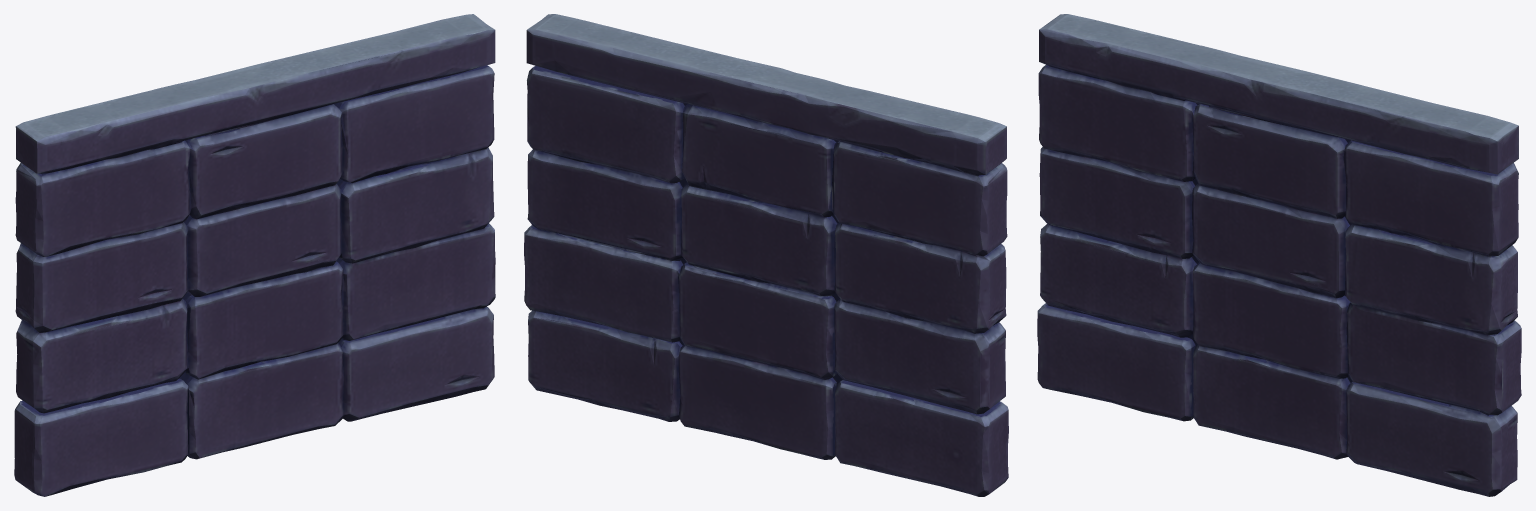
File: ARC0110019.fbx
3 renders of one model, left to right at view 1: azimuth 30°, elevation 25°; view 2: azimuth 150°, elevation 25°; view 3: azimuth 330°, elevation 25°, orthographic.
Visible parts, largest first — view 1: smARC0110019; view 2: smARC0110019; view 3: smARC0110019.
Boxes of the visible parts, x1,y1,x2,y2 form: smARC0110019: (14,14,495,496); smARC0110019: (524,14,1008,496); smARC0110019: (1037,14,1521,496).
Bounding box in the file's own units: 476 × 355 × 49.
1 material, 1 textured.
